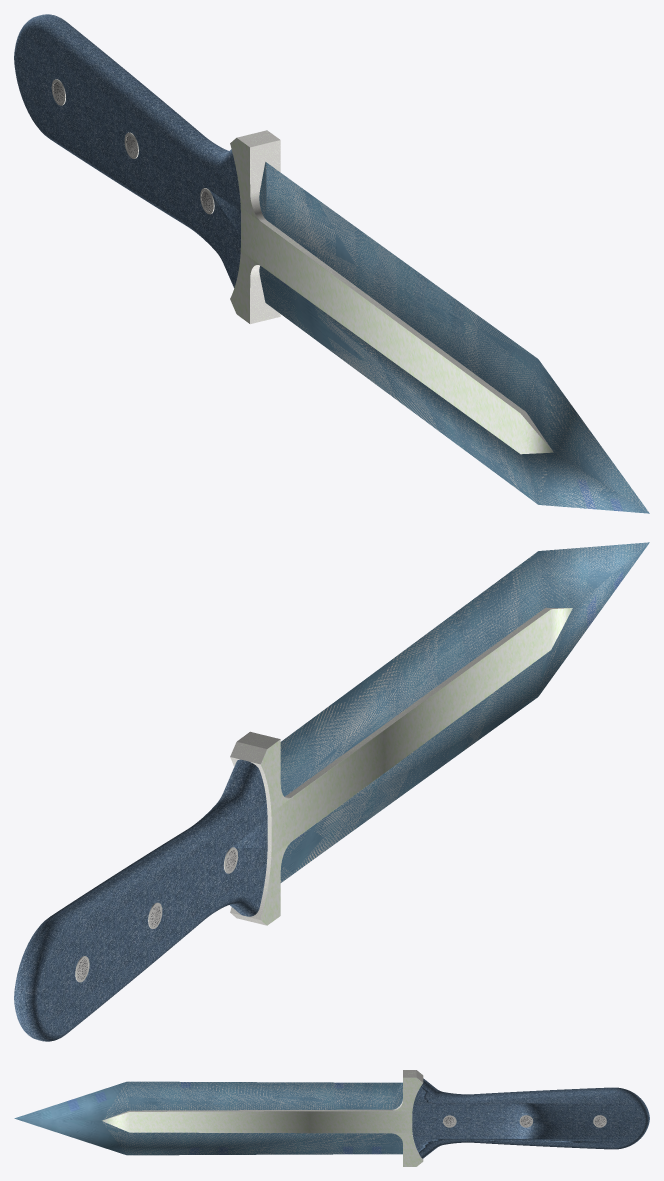
File: model_align.obj
3 views of the same model, one above another, from view 1: azimuth 30°, elevation 25°; view 2: azimuth 150°, elevation 25°; view 3: azimuth 270°, elevation 25° (orthographic). The views are drawn at different scales.
Parts seen in each view (by area): view 1: mesh1_mesh1-geometry; view 2: mesh1_mesh1-geometry; view 3: mesh1_mesh1-geometry.
Part boxes in pixels (left/top/right/bottom): mesh1_mesh1-geometry: left=14, top=14, right=649, bottom=513; mesh1_mesh1-geometry: left=14, top=542, right=649, bottom=1041; mesh1_mesh1-geometry: left=14, top=1070, right=649, bottom=1166.
Bounding box in the file's own units: 0.00641 × 0.0354 × 0.228.
Materials: 5 (4 with a texture image).
